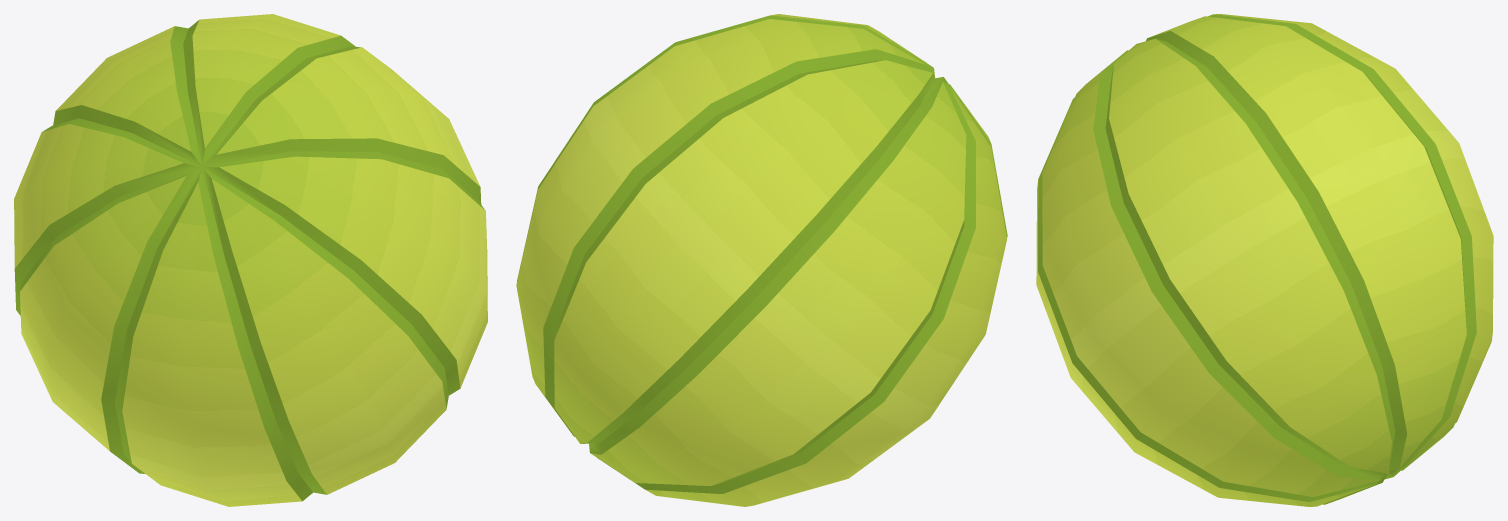
File: melon_whole.glb
3 views of the same model, side by side, from view 1: azimuth 30°, elevation 25°; view 2: azimuth 150°, elevation 25°; view 3: azimuth 270°, elevation 25° (orthographic). The views are drawn at different scales.
Parts seen in each view (by area): view 1: mesh_melon_01 - Default.001_0; view 2: mesh_melon_01 - Default.001_0; view 3: mesh_melon_01 - Default.001_0.
Boxes of the visible parts, bbox=[...] form: mesh_melon_01 - Default.001_0: bbox=[14, 14, 487, 506]; mesh_melon_01 - Default.001_0: bbox=[516, 14, 1007, 506]; mesh_melon_01 - Default.001_0: bbox=[1036, 14, 1493, 506].
Size of the model in its own units: 174 by 184 by 174.
1 material, 1 textured.
